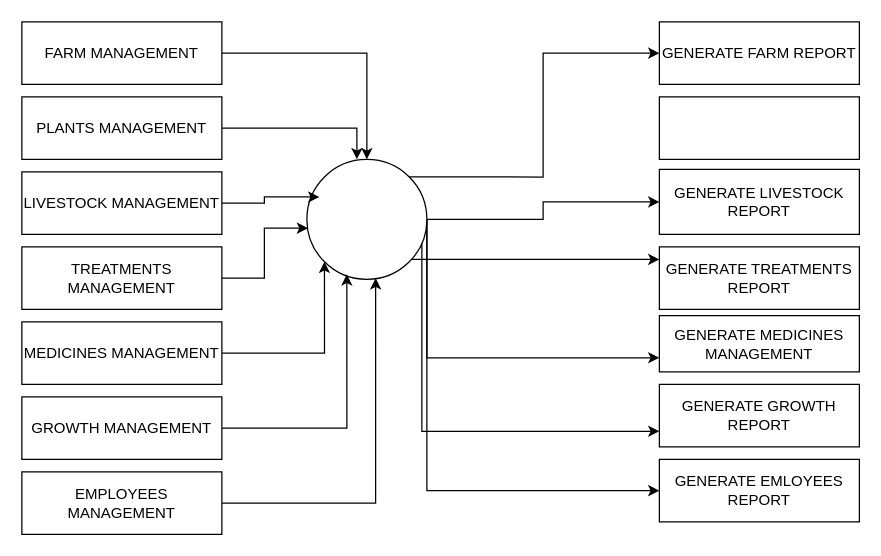
Some shapes in this 881 by 556 pixel diagram are drawn without their labels. The centre of each missing label's shape, as x and y in pixels:
"FARM MANAGEMENT SYSTEM" goes at point (366, 218).
"GENERATE PLANTS REPORT" goes at point (758, 127).
